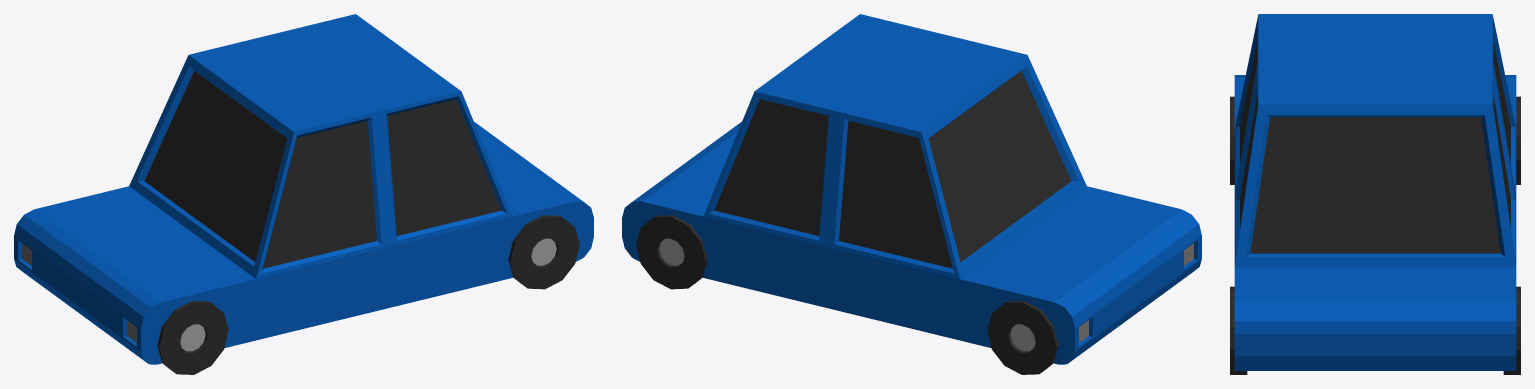
File: Car.fbx
3 renders of one model, left to right at view 1: azimuth 30°, elevation 25°; view 2: azimuth 150°, elevation 25°; view 3: azimuth 270°, elevation 25°, orthographic. The views are drawn at different scales.
Visible parts, largest first — view 1: Car; view 2: Car; view 3: Car.
Boxes of the visible parts, x1,y1,x2,y2 form: Car: [14, 14, 593, 374]; Car: [622, 14, 1201, 374]; Car: [1230, 14, 1520, 374].
Bounding box in the file's own units: 0.1606 × 0.0698 × 0.0807.
